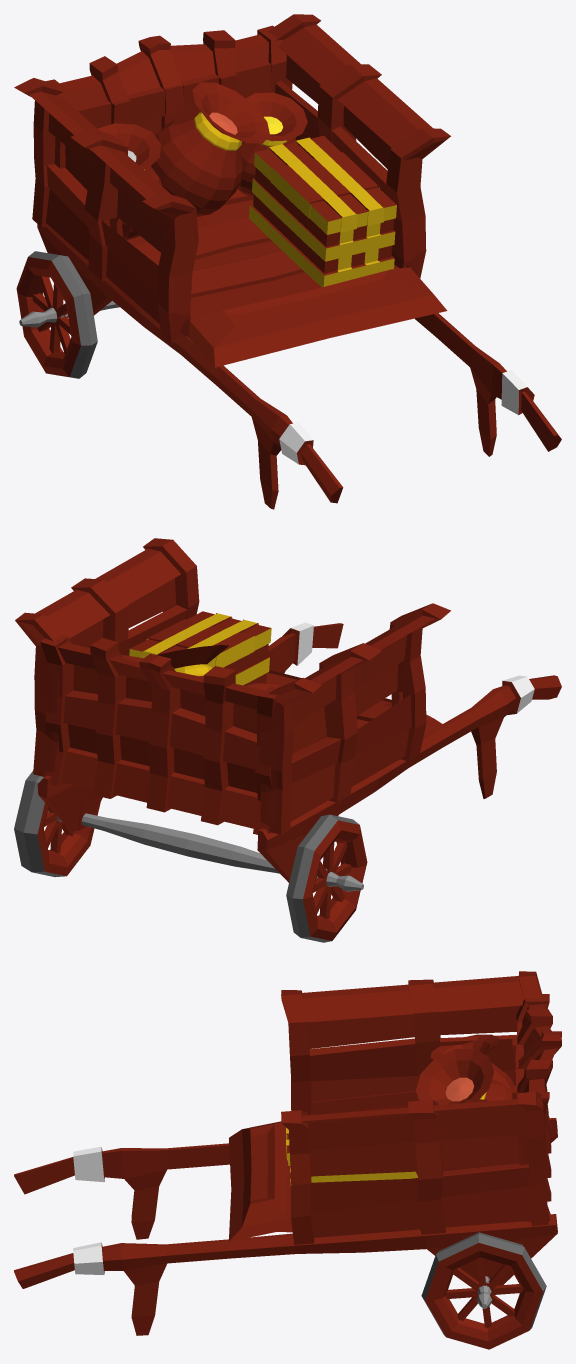
File: Building_LV1_Cargo_Red.fbx
3 views of the same model, one above another, from view 1: azimuth 30°, elevation 25°; view 2: azimuth 150°, elevation 25°; view 3: azimuth 270°, elevation 25° (orthographic). The views are drawn at different scales.
Visible parts, largest first — view 1: CARGO_Red; view 2: CARGO_Red; view 3: CARGO_Red.
Boxes of the visible parts, x1,y1,x2,y2 form: CARGO_Red: [14, 14, 561, 509]; CARGO_Red: [14, 538, 561, 942]; CARGO_Red: [14, 971, 561, 1349].
Bounding box in the file's own units: 352 × 274 × 535.
4 materials, 4 textured.
